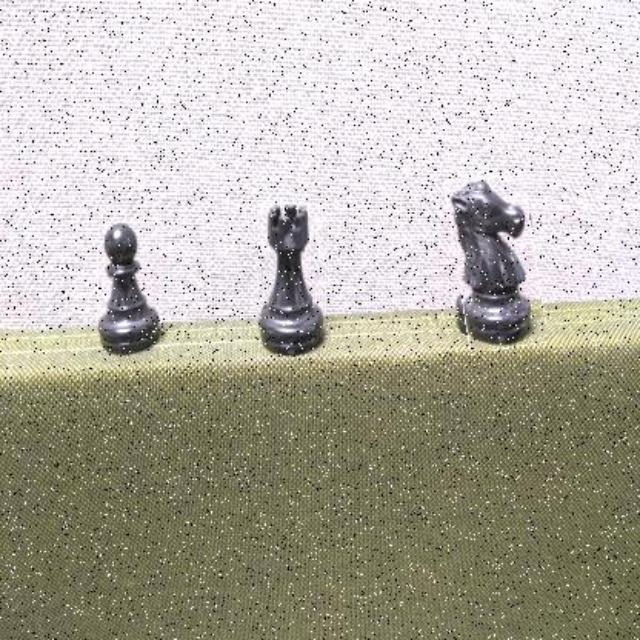black-knight: (450, 172, 542, 350)
black-pawn: (99, 223, 163, 355)
black-rook: (257, 203, 327, 355)
